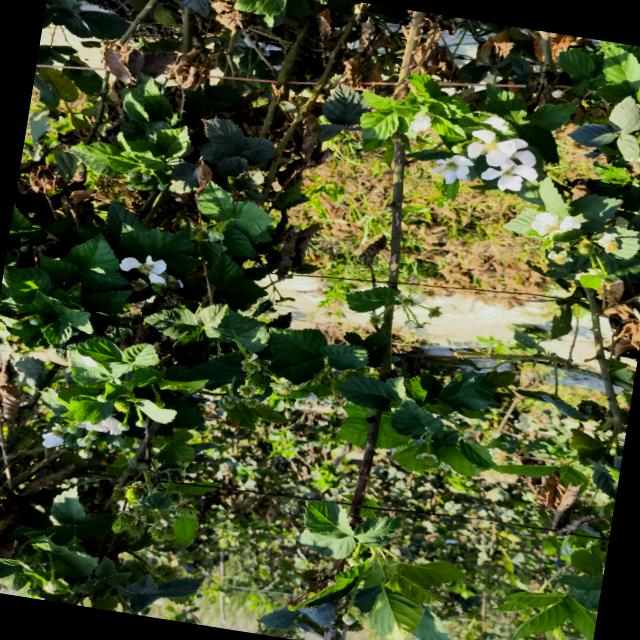boton: (76, 437, 92, 448), (78, 448, 93, 459), (450, 144, 463, 154), (118, 422, 130, 431), (66, 425, 77, 434), (96, 394, 107, 403), (135, 420, 147, 428)
flor: (467, 130, 518, 166), (120, 256, 166, 284), (531, 212, 580, 238), (433, 155, 473, 184), (494, 165, 538, 190), (78, 416, 123, 435), (410, 114, 432, 132), (42, 431, 63, 448), (482, 169, 492, 178)
